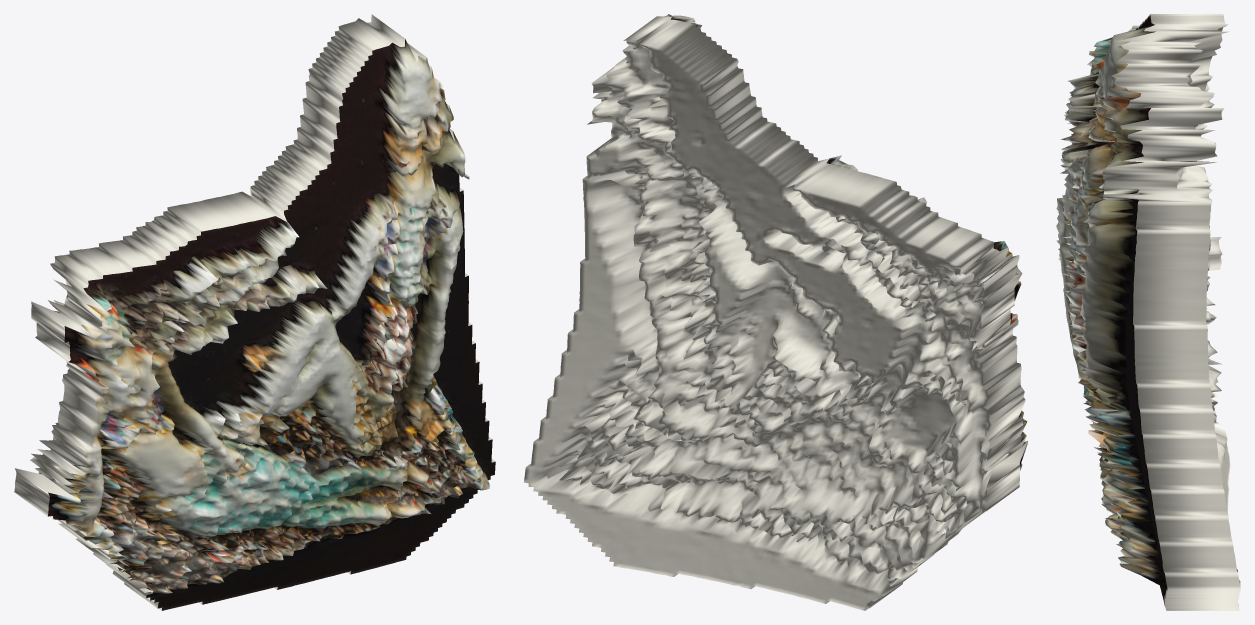
Rendered from sculpture-5.glb.
3 views of the same model, side by side, from view 1: azimuth 30°, elevation 25°; view 2: azimuth 150°, elevation 25°; view 3: azimuth 270°, elevation 25° (orthographic). The views are drawn at different scales.
Visible parts, largest first — view 1: ArtworkSculpture; view 2: ArtworkSculpture; view 3: ArtworkSculpture.
Part boxes in pixels (box(x1,y1,x2,y2)): ArtworkSculpture: box(14, 14, 495, 610); ArtworkSculpture: box(524, 14, 1027, 610); ArtworkSculpture: box(1056, 14, 1240, 610).
Bounding box in the file's own units: 1.97 × 2.17 × 0.6294.
Materials: 2 (1 with a texture image).
